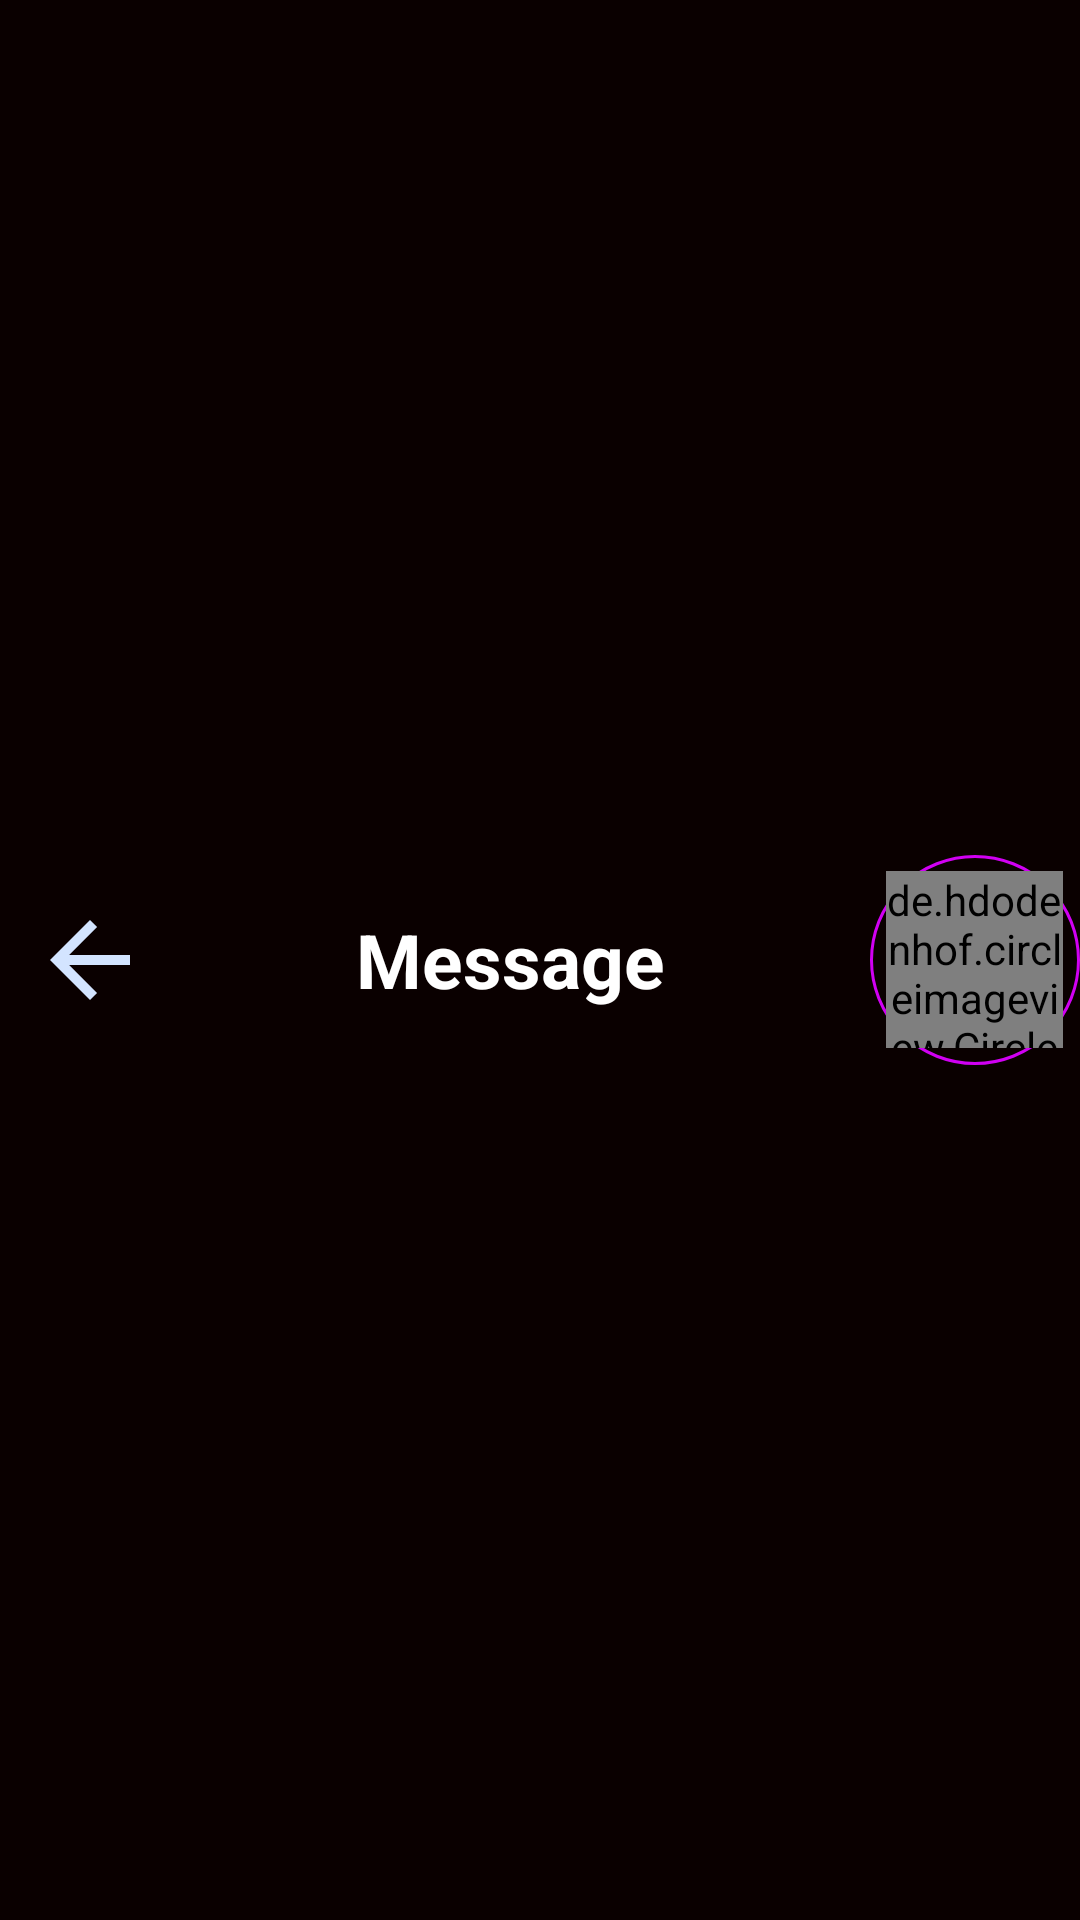

Named icons in this screenshot (1080×1920) and their bounding boxes, [x1, y1, x2, y2]:
arrow back: [50, 920, 130, 1000]
